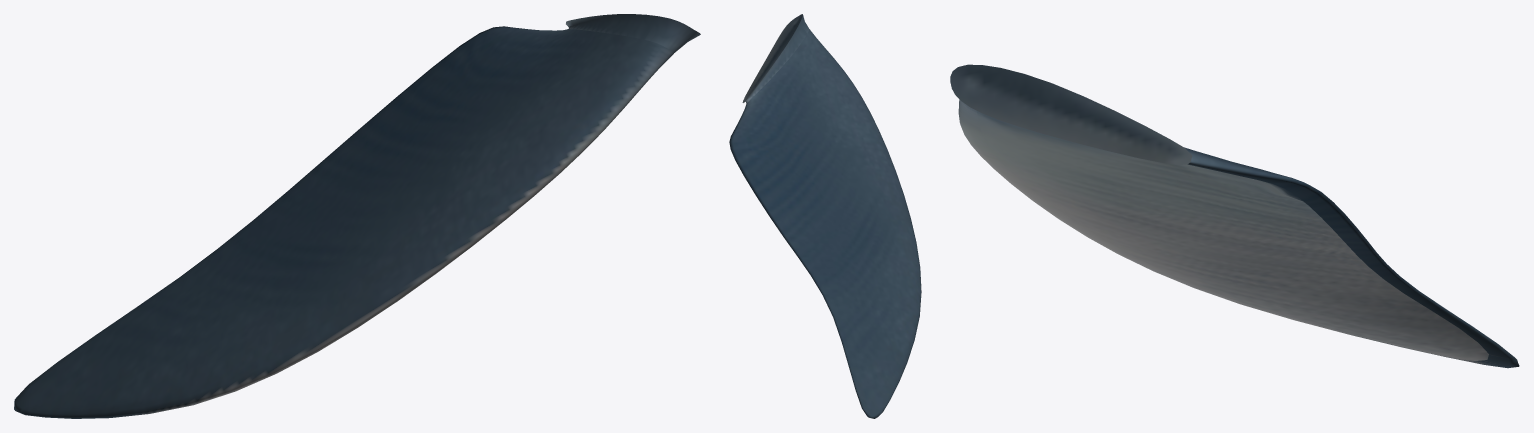
The model's file is AletaDerDelfin.obj.
The picture shows the model from 3 angles, left to right: view 1: azimuth 30°, elevation 25°; view 2: azimuth 150°, elevation 25°; view 3: azimuth 270°, elevation 25°; orthographic projection. The views are drawn at different scales.
Parts seen in each view (by area): view 1: AletaDer; view 2: AletaDer; view 3: AletaDer.
Boxes of the visible parts, bbox=[...] form: AletaDer: bbox=[14, 14, 700, 418]; AletaDer: bbox=[729, 14, 921, 418]; AletaDer: bbox=[950, 64, 1519, 368].
Bounding box in the file's own units: 2.53 × 2.71 × 2.76.
Materials: 1 (1 with a texture image).
